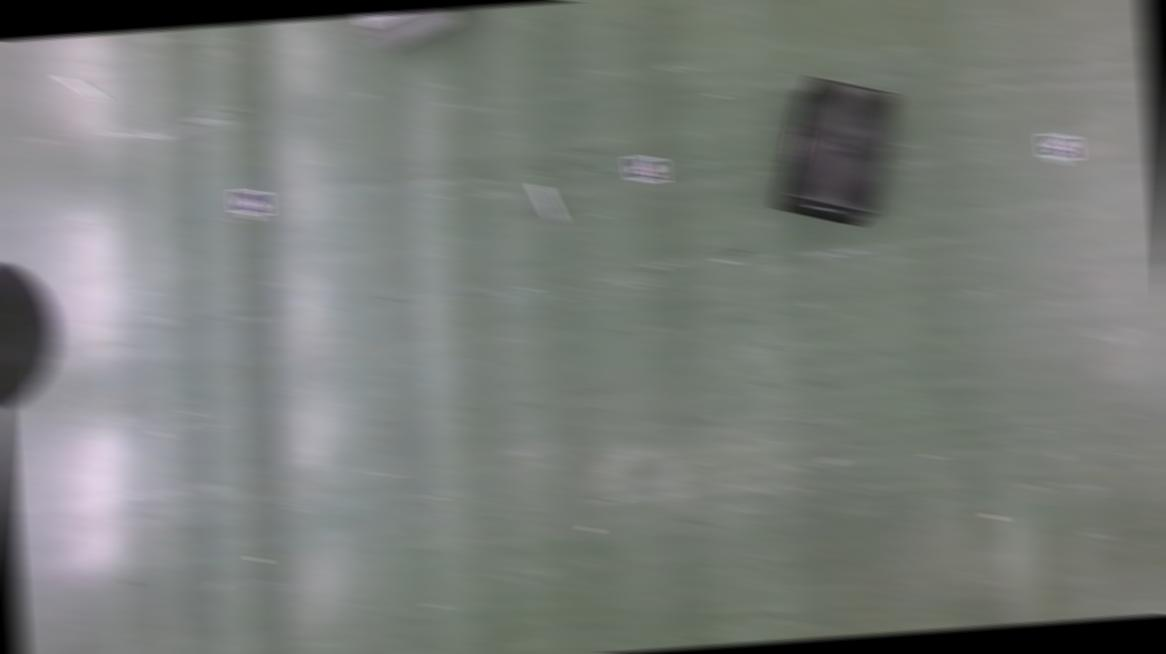probes: (58, 72, 102, 104), (534, 183, 560, 222)
rako: (767, 72, 907, 233), (342, 8, 463, 54)
